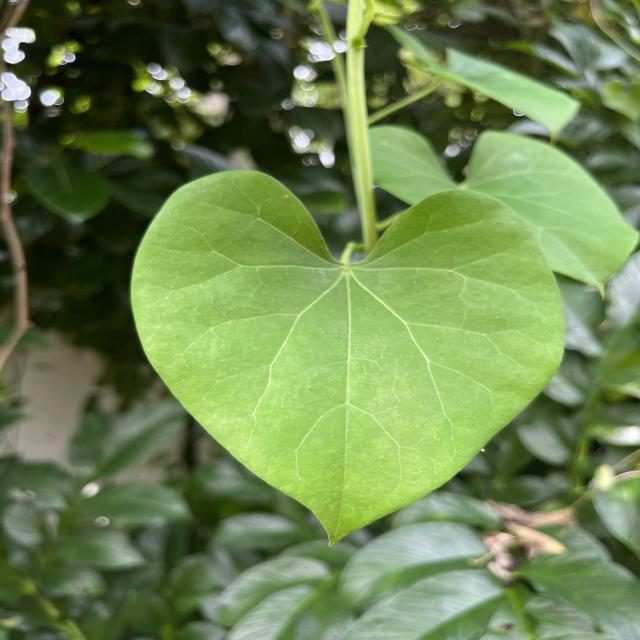Tinospora cordifolia: (119, 163, 572, 554)
